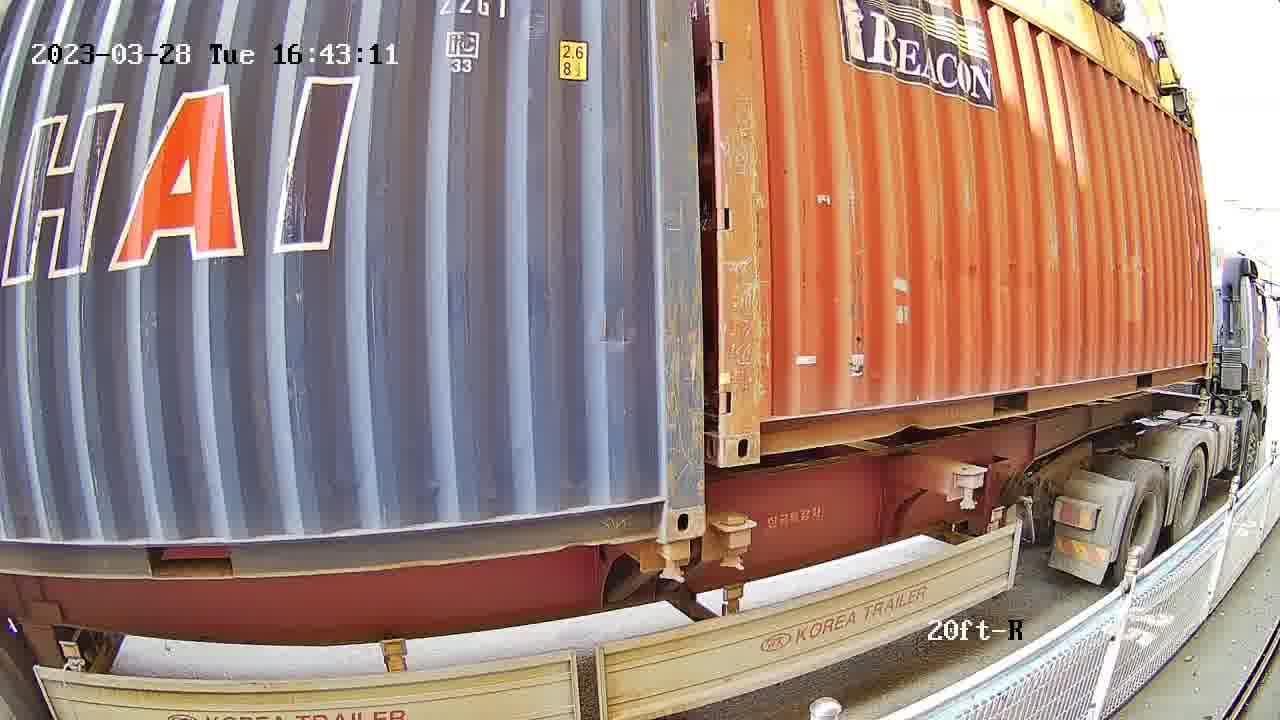Cone: (713, 513, 755, 573), (655, 542, 691, 585)
Hole_L: (721, 382, 792, 468)
Hole_R: (626, 462, 705, 541)
Tire: (1118, 466, 1168, 584), (1173, 449, 1206, 545)
